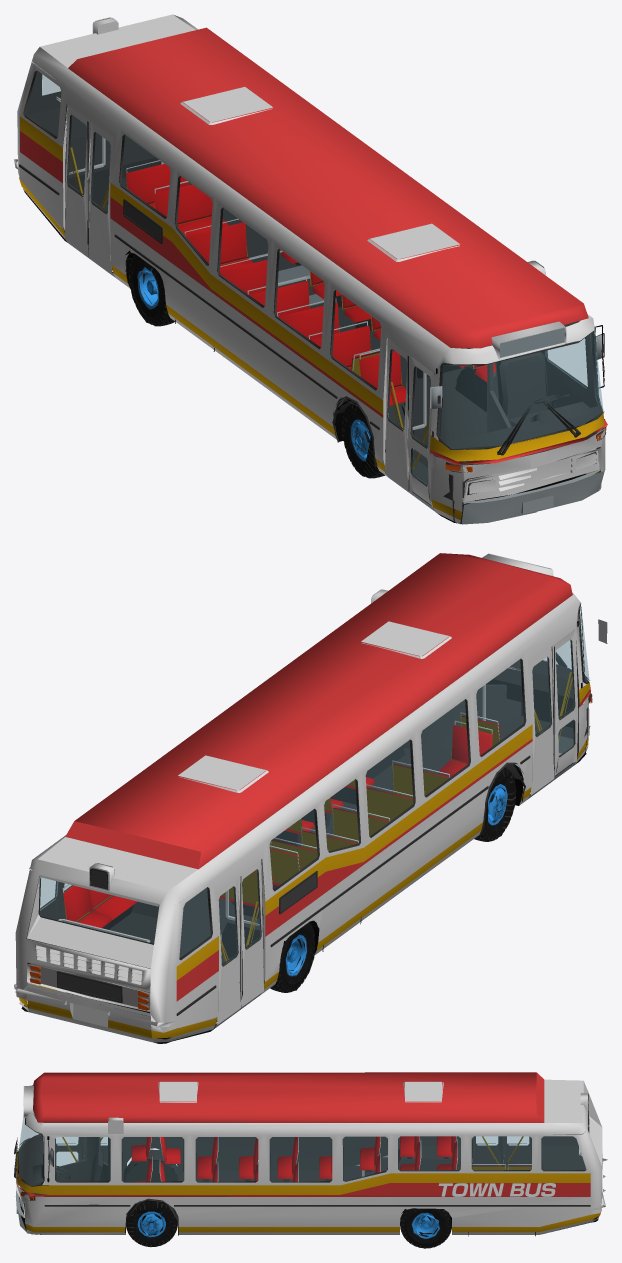
Rendered from bus.glb.
3 renders of one model, top to bottom at view 1: azimuth 30°, elevation 25°; view 2: azimuth 150°, elevation 25°; view 3: azimuth 270°, elevation 25°, orthographic. The views are drawn at different scales.
Visible parts, largest first — view 1: bus; view 2: bus; view 3: bus.
Part boxes in pixels (left/top/right/bottom): bus: left=14, top=14, right=607, bottom=524; bus: left=14, top=553, right=607, bottom=1043; bus: left=14, top=1072, right=607, bottom=1248.
Size of the model in its own units: 2.55 by 2.6 by 10.54.
Materials: 5 (3 with a texture image).
